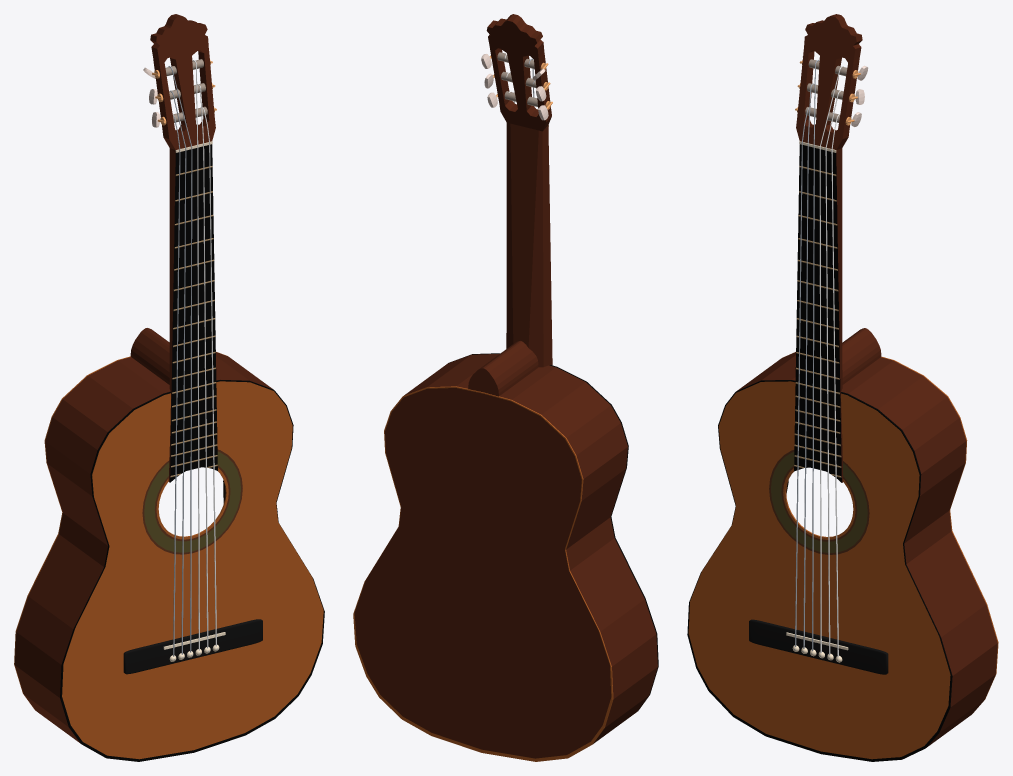
File: chitarra3.fbx
3 renders of one model, left to right at view 1: azimuth 30°, elevation 25°; view 2: azimuth 150°, elevation 25°; view 3: azimuth 330°, elevation 25°, orthographic.
Parts seen in each view (by area): view 1: Sphere.007; view 2: Sphere.007; view 3: Sphere.007.
Boxes of the visible parts, left/top/right/bottom form: Sphere.007: left=14, top=14, right=324, bottom=761; Sphere.007: left=353, top=14, right=658, bottom=761; Sphere.007: left=687, top=14, right=998, bottom=761.
Bounding box in the file's own units: 174 × 457 × 57.01.
